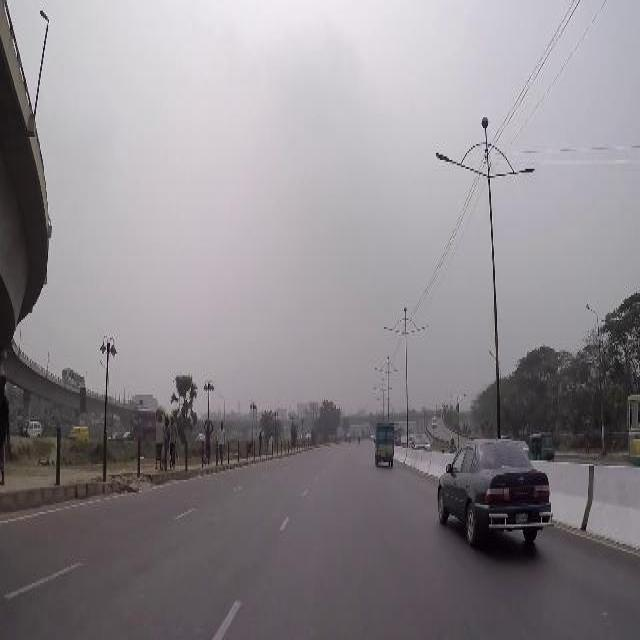bus: (393, 419, 401, 445)
car: (436, 436, 552, 548), (430, 419, 436, 426)
minivan: (411, 434, 427, 452)
pickup: (374, 421, 394, 468)
three wheelers -CNG-: (526, 430, 554, 460)
